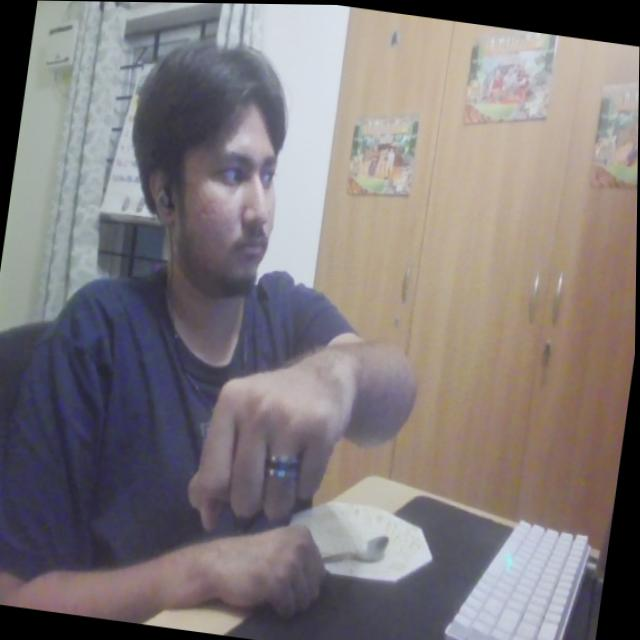yes: (176, 349, 369, 555)
